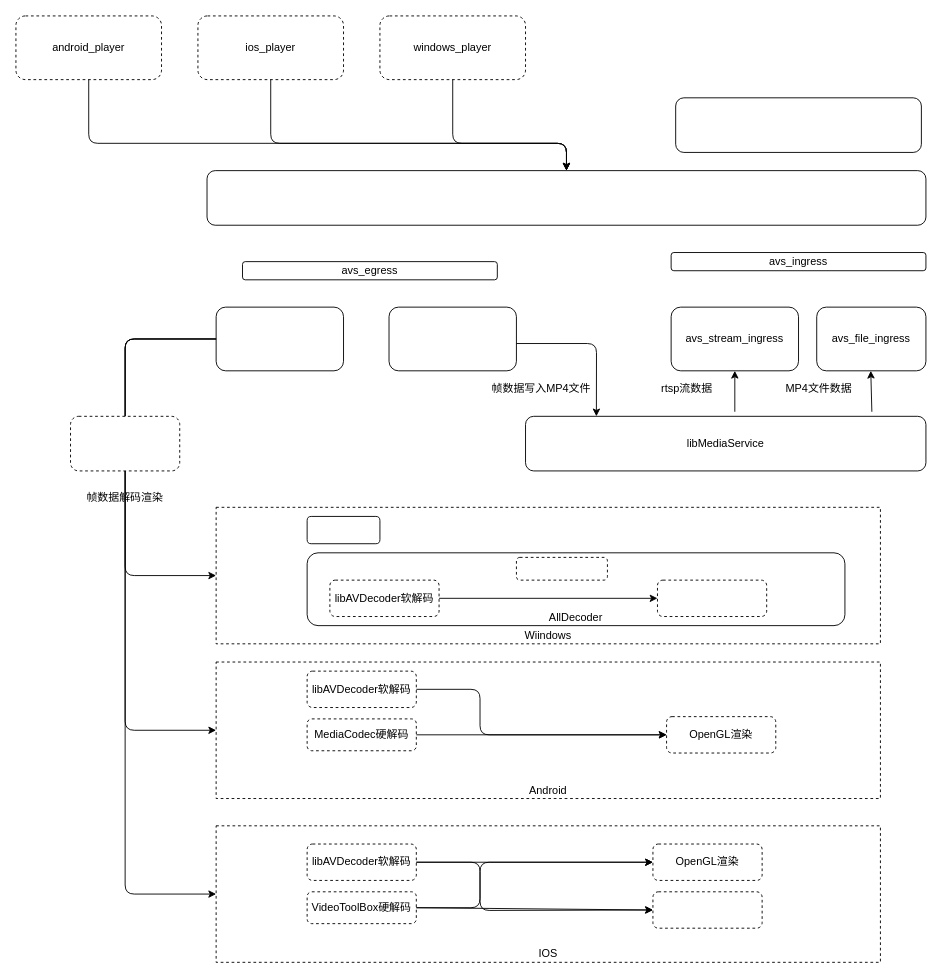
The diagram is 942 pixels wide and 978 high, and some of its shapes have lost their labels. The centre of each missing label's shape, as x and y in pixels:
avs_decode_egress: the point at 279,338
avs_player: the point at 566,197
avs_player_factory: the point at 798,124
avs_record_egress: the point at 452,338
hw_mp: the point at 343,530
SDL渲染: the point at 712,598
struct avs_render: the point at 125,443
截图: the point at 561,568
